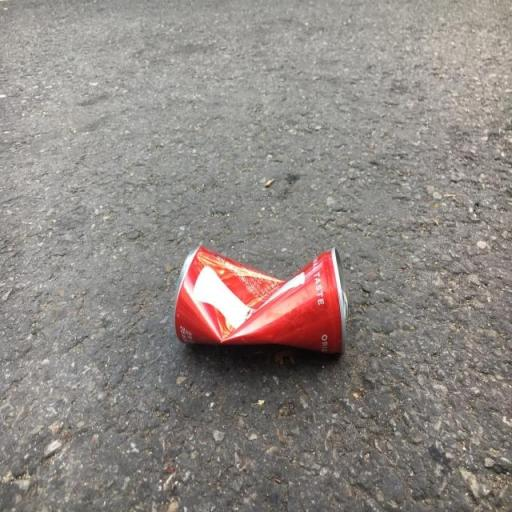metal: (156, 225, 375, 387)
